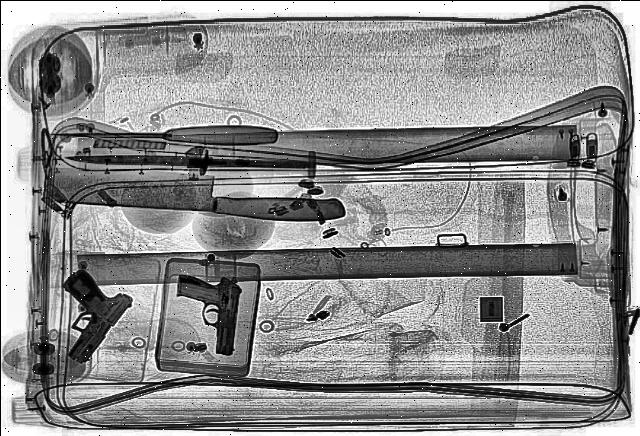Gun: (15, 266, 144, 365), (160, 270, 248, 354)
Knife: (38, 163, 348, 221), (50, 124, 276, 144), (61, 150, 306, 168)
